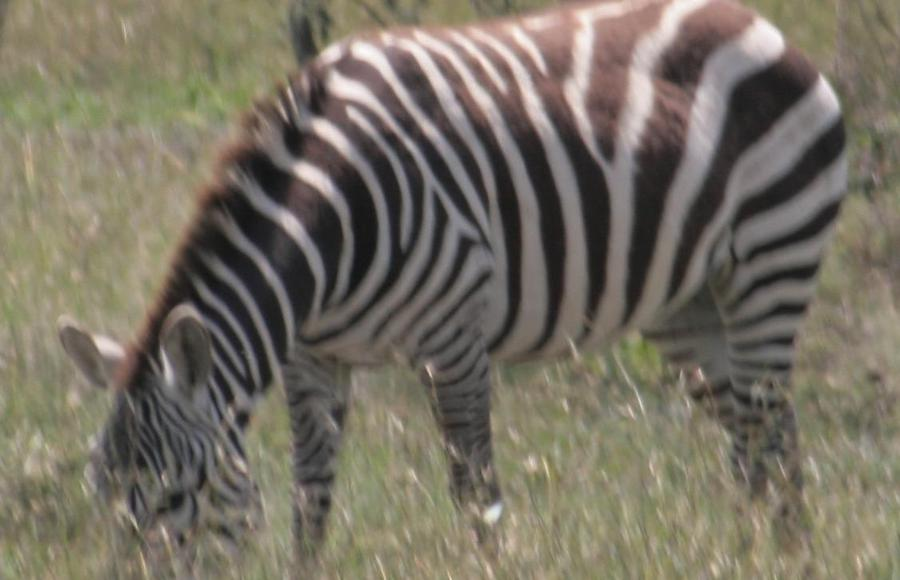zebra_plains: (253, 18, 856, 419)
